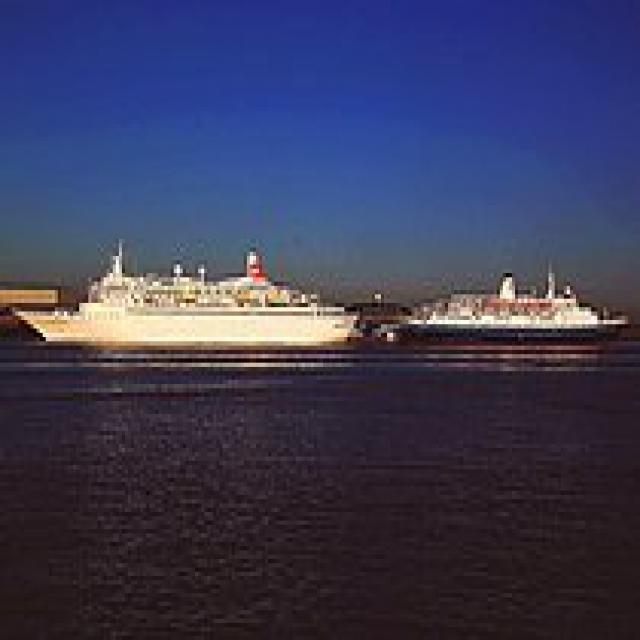Ship: (22, 231, 364, 368), (388, 227, 635, 368)
